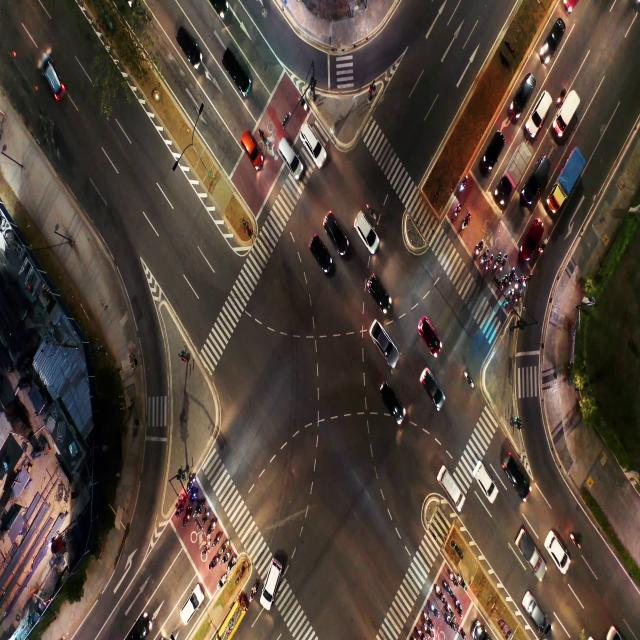bus: (221, 608, 239, 638)
car: (377, 382, 403, 422), (175, 18, 201, 56), (222, 48, 245, 90), (40, 62, 65, 98), (419, 318, 443, 352), (129, 611, 157, 640), (182, 587, 201, 625), (503, 451, 522, 486), (265, 572, 281, 612), (301, 124, 321, 156), (323, 209, 343, 241), (442, 468, 458, 508), (420, 369, 439, 401), (306, 233, 326, 263), (370, 273, 388, 303), (372, 325, 390, 355), (545, 20, 561, 53), (238, 130, 254, 162), (483, 135, 499, 167), (476, 466, 494, 494), (548, 537, 564, 567), (527, 595, 542, 625), (354, 217, 374, 239), (518, 75, 532, 106), (522, 226, 540, 250), (281, 142, 295, 172), (533, 95, 546, 124), (534, 166, 550, 186)
motorcycle: (508, 267, 516, 286), (515, 289, 525, 304), (570, 534, 580, 549), (260, 129, 268, 147), (523, 274, 532, 290), (500, 250, 507, 270), (458, 576, 466, 592), (479, 251, 488, 265), (494, 252, 500, 272), (424, 625, 433, 638), (452, 202, 460, 216), (429, 601, 437, 615), (501, 272, 507, 290), (464, 372, 472, 384), (486, 256, 492, 272), (506, 289, 514, 301), (437, 585, 443, 601), (176, 499, 183, 512), (461, 216, 468, 229), (445, 583, 452, 596), (456, 601, 462, 616), (300, 99, 307, 111), (368, 203, 374, 217), (423, 613, 431, 623), (210, 556, 216, 569), (460, 178, 466, 190), (450, 572, 456, 584), (415, 625, 421, 637), (208, 521, 215, 531), (448, 603, 453, 617), (448, 619, 454, 630), (214, 534, 219, 546), (459, 626, 464, 638), (249, 587, 254, 598), (476, 242, 481, 253), (186, 510, 190, 523), (191, 492, 196, 502), (204, 539, 208, 551), (218, 576, 224, 584), (516, 279, 520, 291), (188, 479, 193, 488), (221, 543, 226, 552), (229, 557, 233, 568), (198, 504, 202, 514), (540, 242, 544, 252), (204, 511, 207, 524), (222, 554, 226, 563)
truck: (518, 522, 538, 570), (507, 147, 525, 189), (558, 161, 576, 198), (559, 95, 575, 120)
